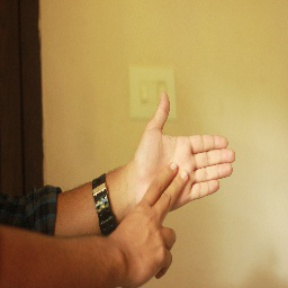N: (109, 92, 237, 283)
